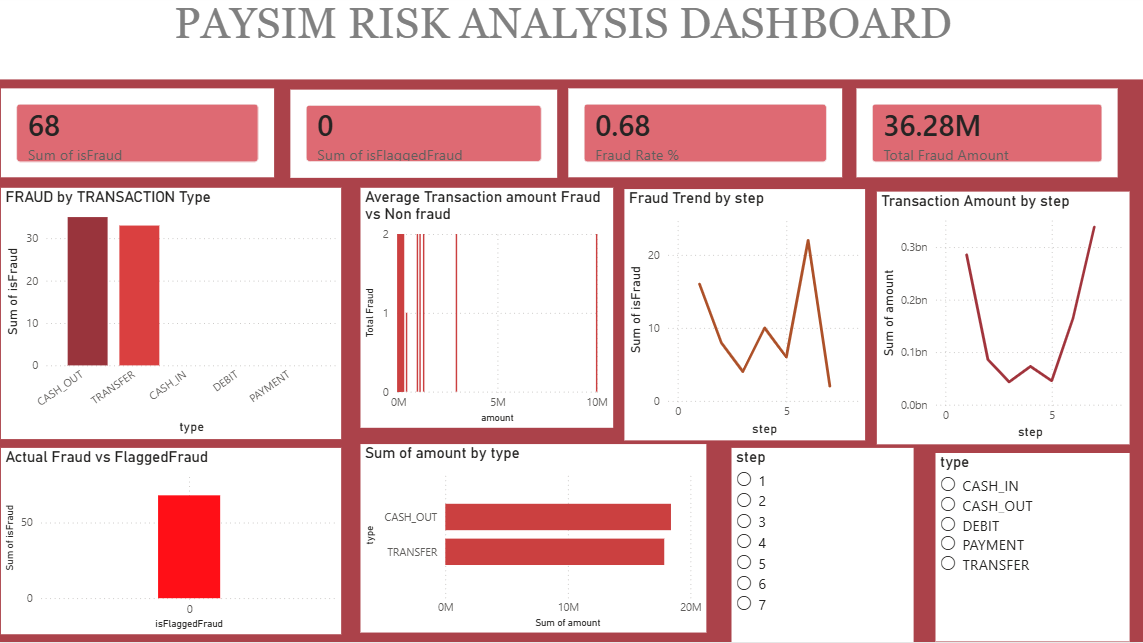

The dashboard page shown, as its layout file describes it:
{"tool":"powerbi","page":{"name":"Page 2","canvas":[1280,720],"ordinal":1},"visuals":[{"type":"cardVisual","fields":{"Data":["paysim_dashboard.Fraud Rate %"]},"box":[640.3,104.8,304.6,99.2],"z":0},{"type":"cardVisual","fields":{"Data":["Sum(paysim_dashboard.isFlaggedFraud)"]},"box":[331.5,106.3,296.1,97.8],"z":1000},{"type":"cardVisual","fields":{"Data":["Sum(paysim_dashboard.isFraud)"]},"box":[9.9,104.8,303.2,99.2],"z":2000},{"type":"cardVisual","fields":{"Data":["paysim_dashboard.Total Fraud Amount"]},"box":[960.5,104.8,290.4,99.2],"z":3000},{"type":"columnChart","title":"FRAUD by TRANSACTION  Type","fields":{"Category":["paysim_dashboard.type"],"Y":["Sum(paysim_dashboard.isFraud)"]},"box":[9.9,215.3,378.3,279.1],"z":4000},{"type":"clusteredColumnChart","title":"Actual Fraud vs FlaggedFraud","fields":{"Category":["paysim_dashboard.isFlaggedFraud"],"Y":["Sum(paysim_dashboard.isFraud)"]},"box":[9.9,504.3,378.3,206.8],"z":5000},{"type":"clusteredColumnChart","title":" Average Transaction amount Fraud vs Non fraud","fields":{"Category":["paysim_dashboard.amount"],"Y":["paysim_dashboard.Total Fraud"]},"box":[409.4,215.3,280.5,266.3],"z":6000},{"type":"lineChart","title":"Fraud Trend by step","fields":{"Category":["paysim_dashboard.step"],"Y":["Sum(paysim_dashboard.isFraud)"]},"box":[702.7,216.8,267.8,279.1],"z":6001},{"type":"lineChart","title":"Transaction Amount by  step","fields":{"Category":["paysim_dashboard.step"],"Y":["Sum(paysim_dashboard.amount)"]},"box":[983.2,219.6,280.5,280.5],"z":6002},{"type":"barChart","fields":{"Category":["paysim_dashboard.type"],"Y":["Sum(paysim_dashboard.amount)"]},"box":[409.4,500.1,383.9,209.7],"z":6003},{"type":"listSlicer","fields":{"Values":["paysim_dashboard.step"]},"box":[821.7,504.3,202.6,215.3],"z":6004},{"type":"listSlicer","fields":{"Values":["paysim_dashboard.type"]},"box":[1048.3,510,215.3,209.7],"z":6005},{"type":"textbox","box":[0,0,1280.7,94.9],"z":6007}]}

Visuals, with their boxes in screenshot pixels (x1, y1, x2, y2), scaled from the page's 1280x720 canvas onto the 1143x643 screenshot:
cardVisual - paysim_dashboard.Fraud Rate %: Rect(572, 94, 844, 182)
cardVisual - Sum(paysim_dashboard.isFlaggedFraud): Rect(296, 95, 560, 182)
cardVisual - Sum(paysim_dashboard.isFraud): Rect(9, 94, 280, 182)
cardVisual - paysim_dashboard.Total Fraud Amount: Rect(858, 94, 1117, 182)
"FRAUD by TRANSACTION  Type" columnChart: Rect(9, 192, 347, 442)
"Actual Fraud vs FlaggedFraud" clusteredColumnChart: Rect(9, 450, 347, 635)
" Average Transaction amount Fraud vs Non fraud" clusteredColumnChart: Rect(366, 192, 616, 430)
"Fraud Trend by step" lineChart: Rect(627, 194, 867, 443)
"Transaction Amount by  step" lineChart: Rect(878, 196, 1128, 447)
barChart - paysim_dashboard.type x Sum(paysim_dashboard.amount): Rect(366, 447, 708, 634)
listSlicer - paysim_dashboard.step: Rect(734, 450, 915, 642)
listSlicer - paysim_dashboard.type: Rect(936, 455, 1128, 642)
textbox: Rect(0, 0, 1142, 85)
